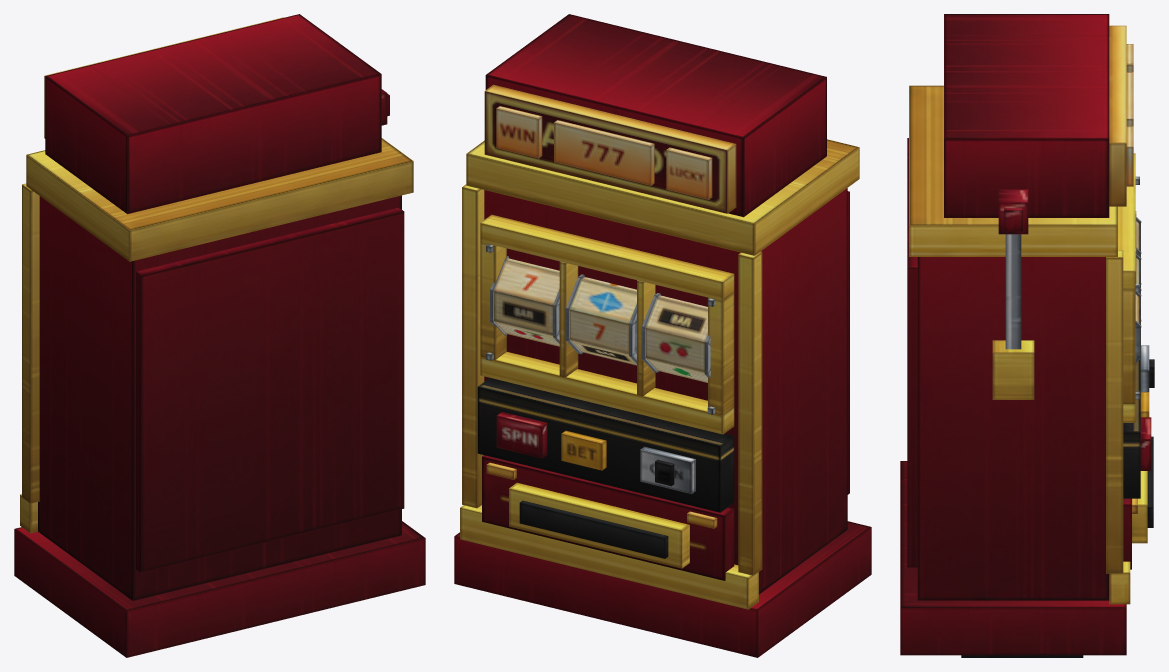
The model's file is slot_machine_casino.obj.
The picture shows the model from 3 angles, left to right: view 1: azimuth 30°, elevation 25°; view 2: azimuth 150°, elevation 25°; view 3: azimuth 270°, elevation 25°; orthographic projection.
Parts seen in each view (by area): view 1: rear_cap, top_sign_body, cabinet_main, base_plinth, top_cap, left_side_trim; view 2: cabinet_main, top_sign_body, base_plinth, top_cap, control_panel, top_sign_front, lower_front_panel, left_side_trim, base_step, reel_frame_top, reel_frame_bottom, right_side_trim (+21 smaller); view 3: cabinet_main, top_sign_body, base_plinth, top_cap, right_side_trim, rear_cap, top_sign_front, lever_mount, lever_arm, control_panel, reel_frame_top, reel_frame_right (+10 smaller).
Part boxes in pixels (x1,y1,x2,y2): rear_cap: (136,207,404,572); top_sign_body: (45,14,381,214); cabinet_main: (38,195,401,600); base_plinth: (14,521,425,657); top_cap: (26,138,413,261); left_side_trim: (22,183,39,503); cabinet_main: (484,188,847,594); top_sign_body: (485,14,826,217); base_plinth: (454,521,871,657); top_cap: (466,139,859,255); control_panel: (477,378,734,512); top_sign_front: (484,84,736,213); lower_front_panel: (482,455,734,580); left_side_trim: (738,251,762,575); base_step: (460,505,758,609); reel_frame_top: (480,214,734,300); reel_frame_bottom: (480,352,734,434); right_side_trim: (462,184,484,508); cabinet_main: (917,257,1109,600); top_sign_body: (944,14,1109,217); base_plinth: (900,461,1126,655); top_cap: (909,85,1117,256); right_side_trim: (1106,250,1123,573); rear_cap: (907,138,917,567); top_sign_front: (1109,25,1126,206); lever_mount: (992,340,1034,399); lever_arm: (1005,234,1021,349); control_panel: (1123,359,1140,498); reel_frame_top: (1118,153,1135,290); reel_frame_right: (1123,290,1135,403).
Bounding box in the file's own units: 1.32 × 2.06 × 0.9125.
